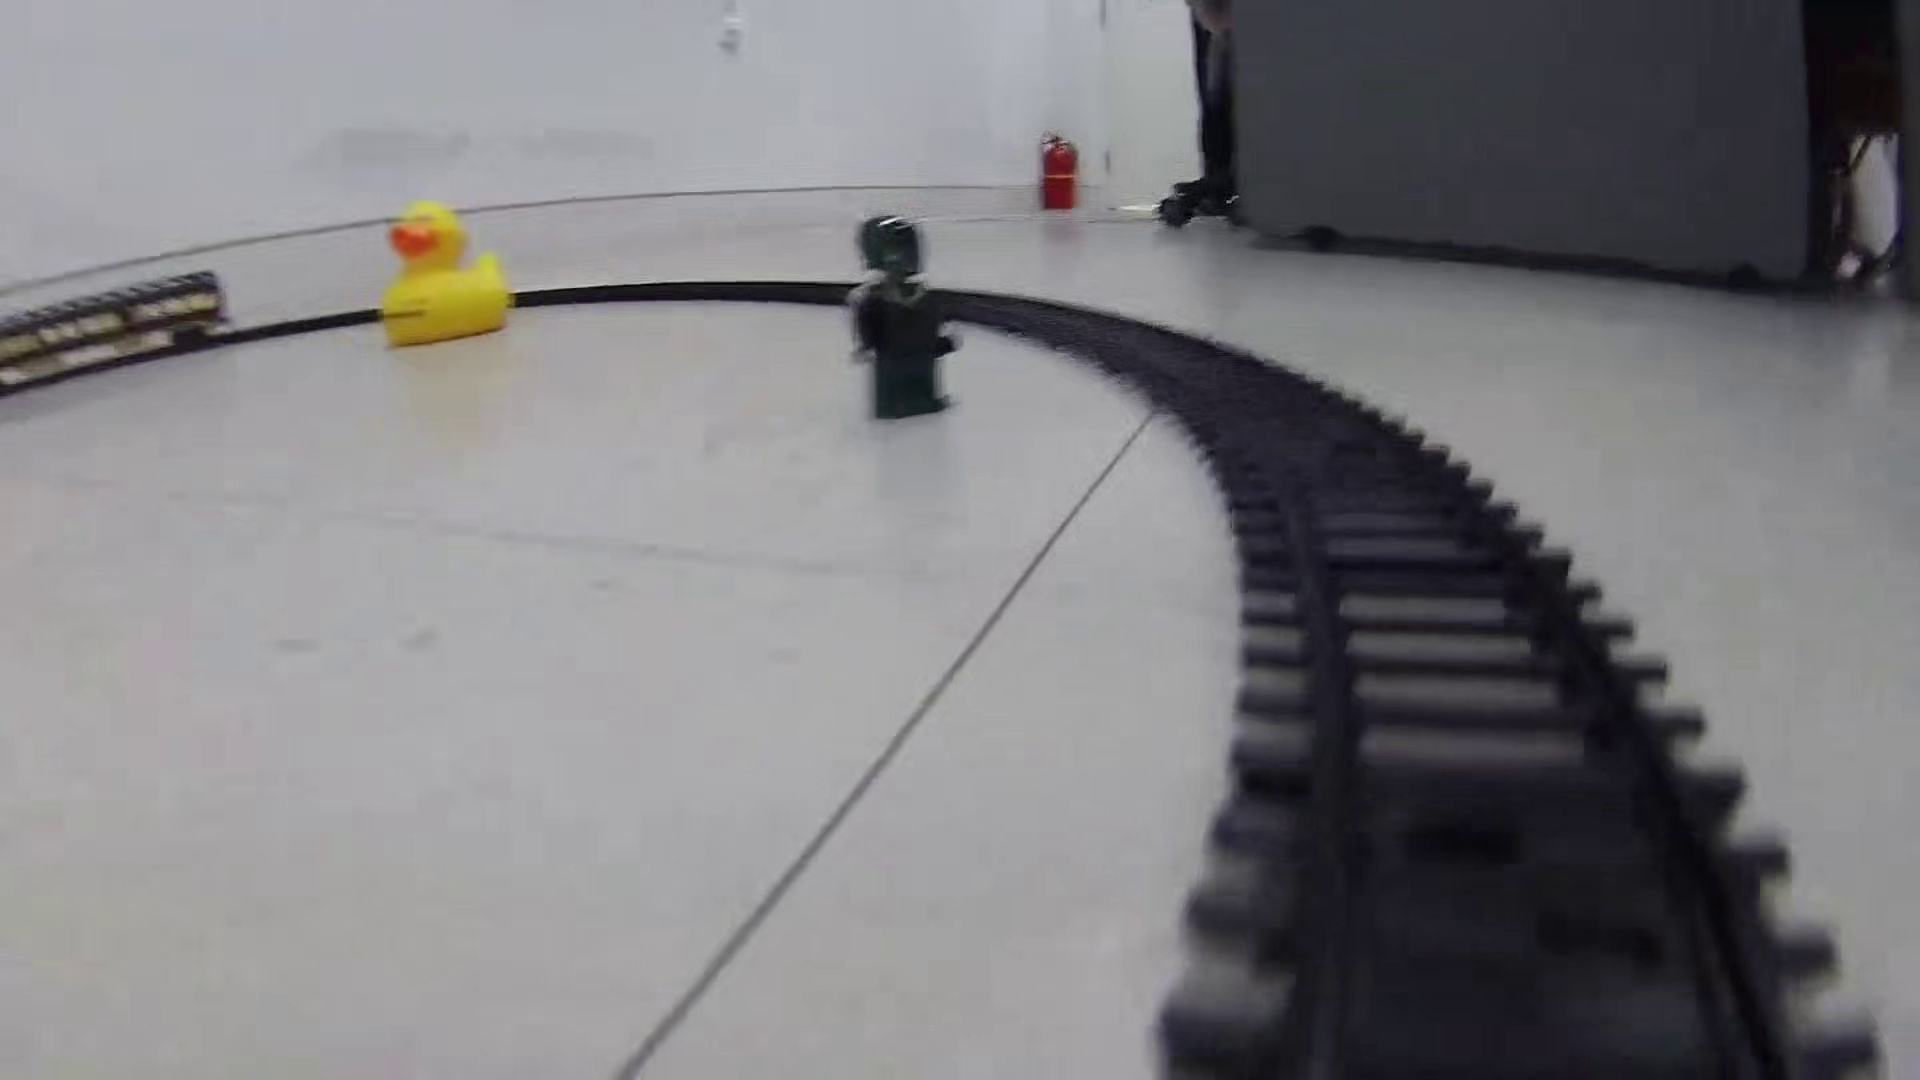people: (839, 214, 965, 427)
